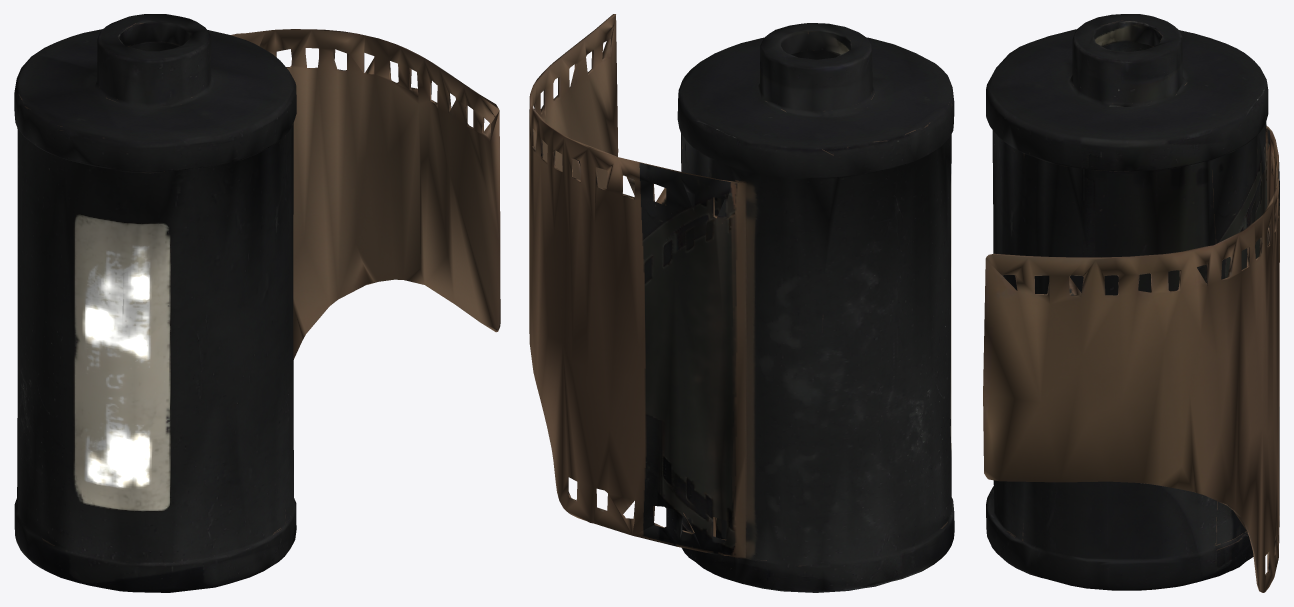
File: Meshy_AI_카메라에_사용할_0727134011_texture.fbx
The picture shows the model from 3 angles, left to right: view 1: azimuth 30°, elevation 25°; view 2: azimuth 150°, elevation 25°; view 3: azimuth 270°, elevation 25°; orthographic projection.
Parts seen in each view (by area): view 1: Mesh1.0; view 2: Mesh1.0; view 3: Mesh1.0.
Part boxes in pixels (x1,y1,x2,y2): Mesh1.0: (14,14,500,592); Mesh1.0: (529,14,954,592); Mesh1.0: (983,14,1279,592).
Bounding box in the file's own units: 159 × 190 × 103.
Materials: 1 (1 with a texture image).
